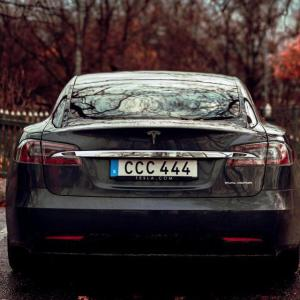Plate: (110, 159, 198, 180)
